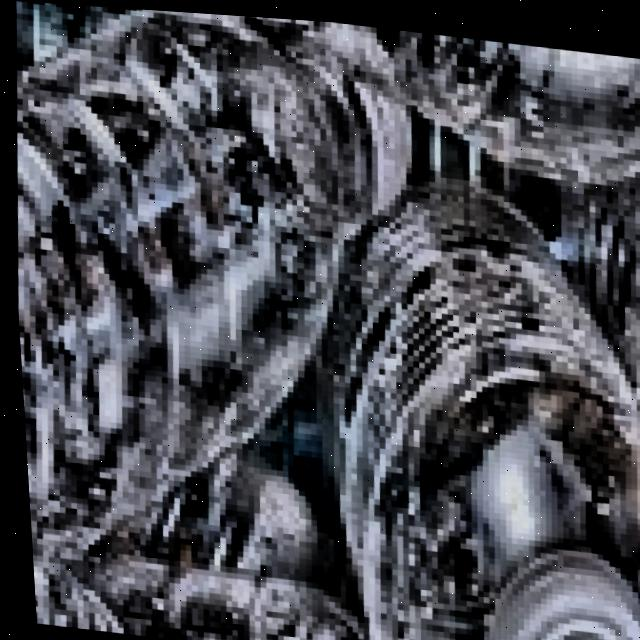plastic: (15, 9, 511, 583), (279, 132, 640, 640)
